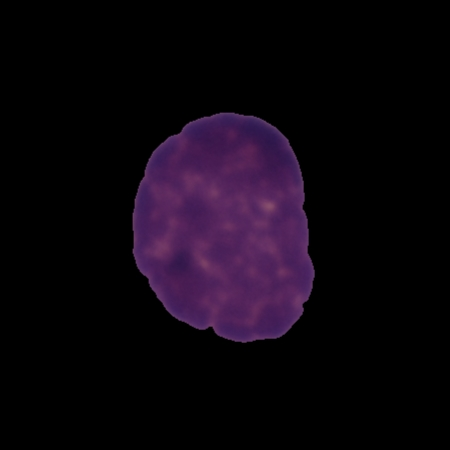HEM: (128, 107, 320, 345)
